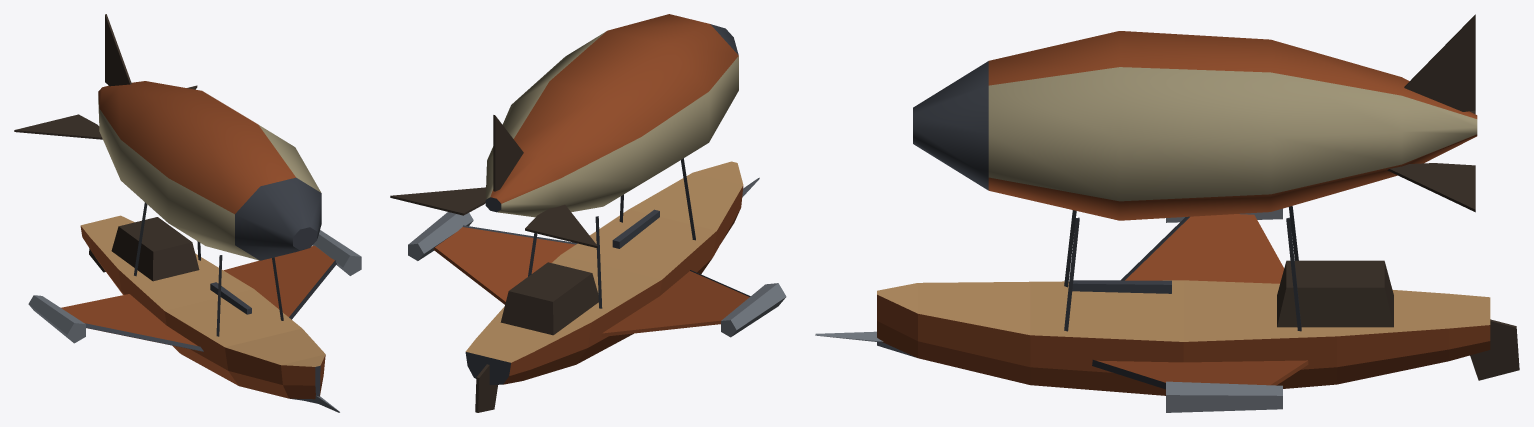
File: SM_Ship_RustWing_LQ.glb
3 renders of one model, left to right at view 1: azimuth 30°, elevation 25°; view 2: azimuth 150°, elevation 25°; view 3: azimuth 270°, elevation 25°, orthographic. The views are drawn at different scales.
Parts seen in each view (by area): view 1: SM_Ship_RustWing_LQ; view 2: SM_Ship_RustWing_LQ; view 3: SM_Ship_RustWing_LQ.
Part boxes in pixels (x1=…): SM_Ship_RustWing_LQ: x1=14, y1=14, x2=361, y2=412; SM_Ship_RustWing_LQ: x1=390, y1=14, x2=786, y2=412; SM_Ship_RustWing_LQ: x1=815, y1=14, x2=1519, y2=412.
Bounding box in the file's own units: 8.22 × 7.05 × 12.05.
Materials: 1 (1 with a texture image).
